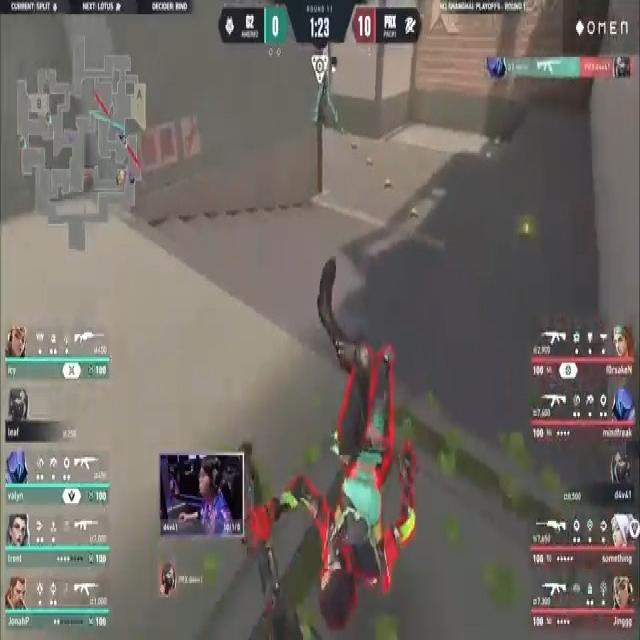gun: (240, 422, 294, 640)
